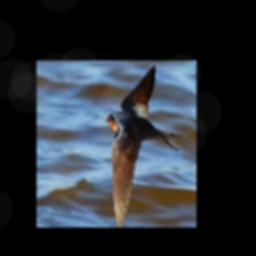Swallow: (104, 65, 182, 227)
